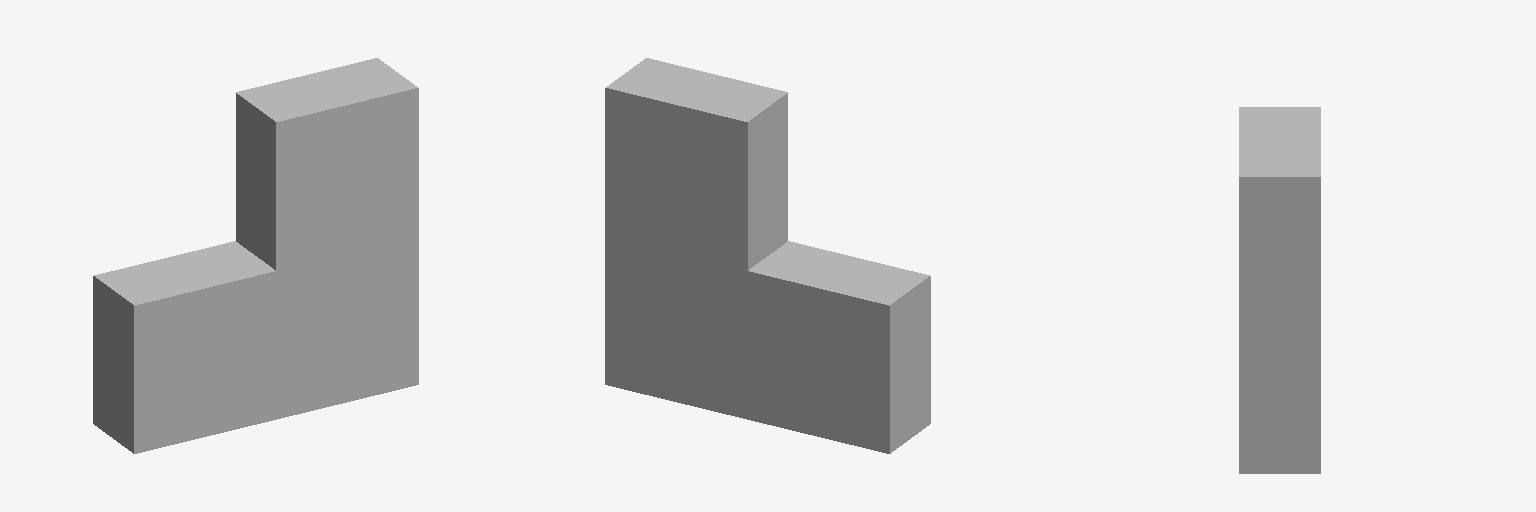
The model's file is Primitive_Wall_OpenCorner.obj.
The picture shows the model from 3 angles: view 1: azimuth 30°, elevation 25°; view 2: azimuth 150°, elevation 25°; view 3: azimuth 270°, elevation 25°; orthographic projection.
Parts seen in each view (by area): view 1: Primitive_Wall_OpenCorner_Cube.16416; view 2: Primitive_Wall_OpenCorner_Cube.16416; view 3: Primitive_Wall_OpenCorner_Cube.16416.
Part boxes in pixels (left/top/right/bottom): Primitive_Wall_OpenCorner_Cube.16416: left=93, top=58, right=418, bottom=453; Primitive_Wall_OpenCorner_Cube.16416: left=605, top=58, right=930, bottom=453; Primitive_Wall_OpenCorner_Cube.16416: left=1239, top=107, right=1320, bottom=473.
Size of the model in its own units: 4 by 4 by 1.